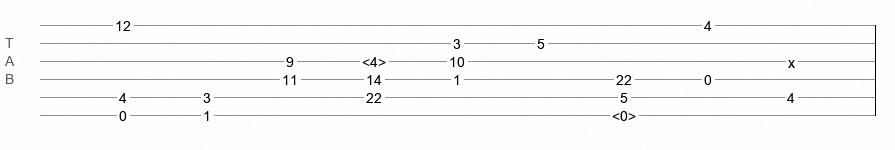0: (119, 108, 127, 118), (704, 72, 712, 82)
1: (203, 108, 211, 118), (453, 72, 461, 82)
10: (449, 54, 465, 64)
11: (282, 72, 298, 82)
12: (115, 18, 131, 28)
14: (366, 72, 382, 82)
22: (366, 90, 382, 100), (616, 72, 632, 82)
3: (203, 90, 211, 100), (453, 36, 461, 46)
4: (119, 90, 127, 100), (704, 18, 712, 28), (787, 90, 795, 100)
5: (537, 36, 545, 46), (620, 90, 628, 100)
9: (286, 54, 294, 64)
harmonic: (362, 54, 386, 64), (612, 108, 636, 118)
x: (788, 55, 795, 63)
